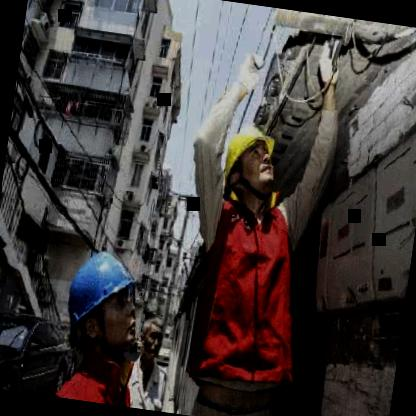helmet: (56, 235, 155, 369), (211, 124, 288, 206)
